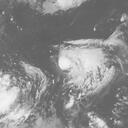cyclone: (57, 47, 110, 94), (0, 75, 23, 115)
